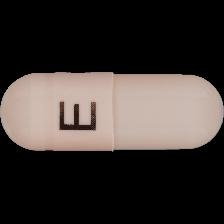0179-0162: (0, 0, 224, 224)
